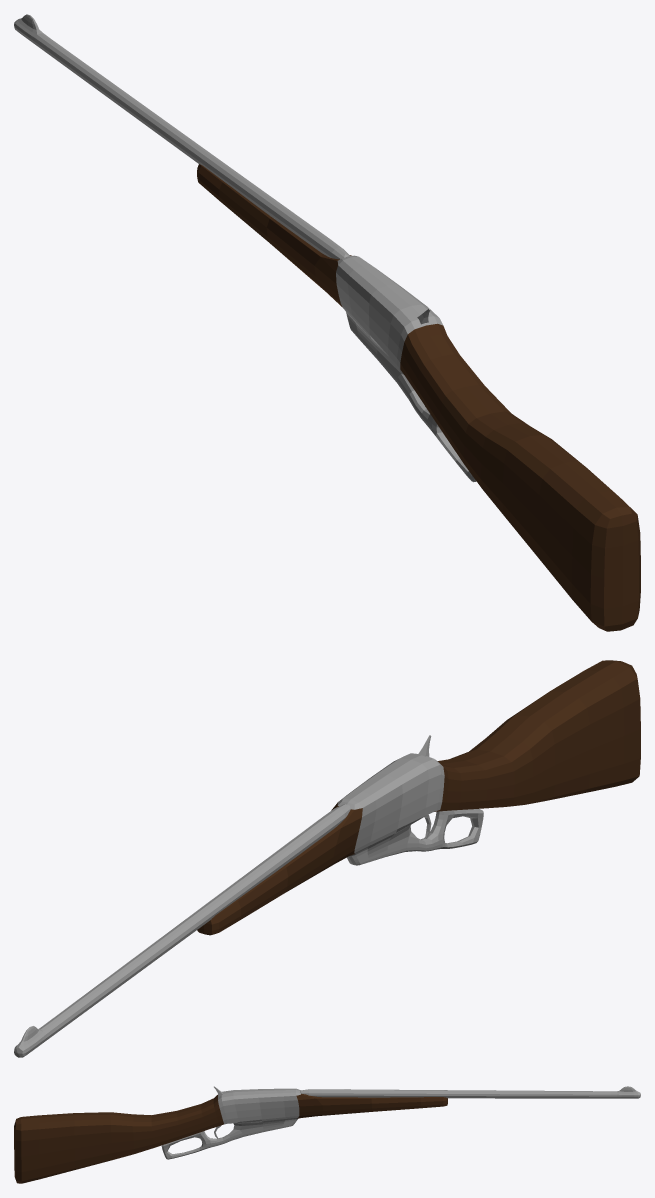
File: Rifle.fbx
The picture shows the model from 3 angles, top to bottom: view 1: azimuth 30°, elevation 25°; view 2: azimuth 150°, elevation 25°; view 3: azimuth 270°, elevation 25°; orthographic projection. The views are drawn at different scales.
Parts seen in each view (by area): view 1: Rifle; view 2: Rifle; view 3: Rifle.
Boxes of the visible parts, <box> form: Rifle: <box>14,14,640,631</box>; Rifle: <box>14,660,640,1057</box>; Rifle: <box>14,1086,640,1183</box>.
Bounding box in the file's own units: 19.18 × 63.81 × 383.
